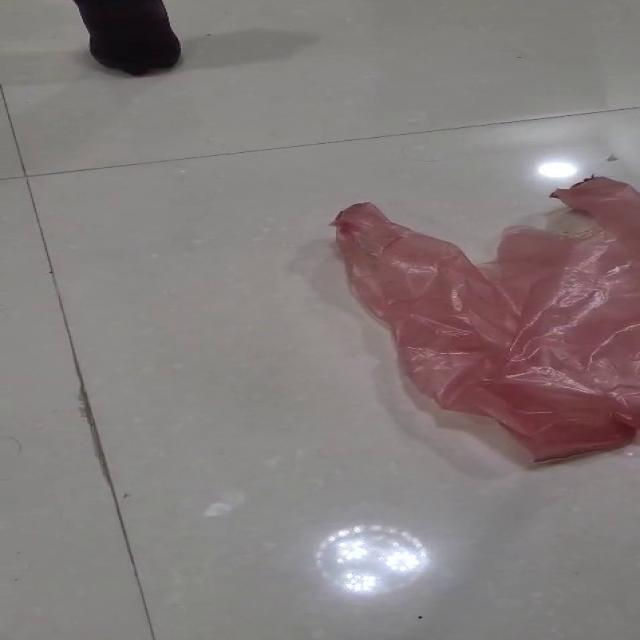plastic: (328, 174, 639, 464)
